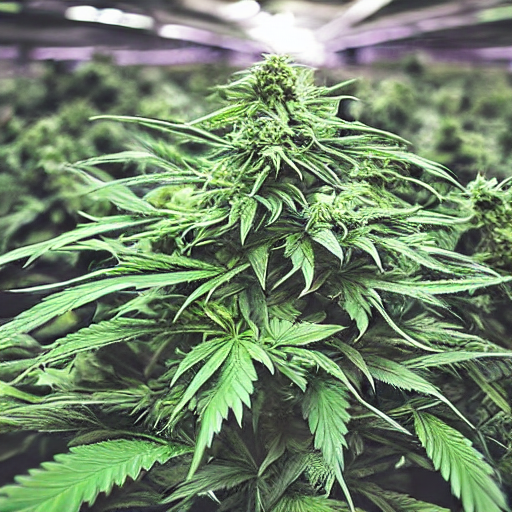Marijuana Joint: (130, 38, 428, 398)
